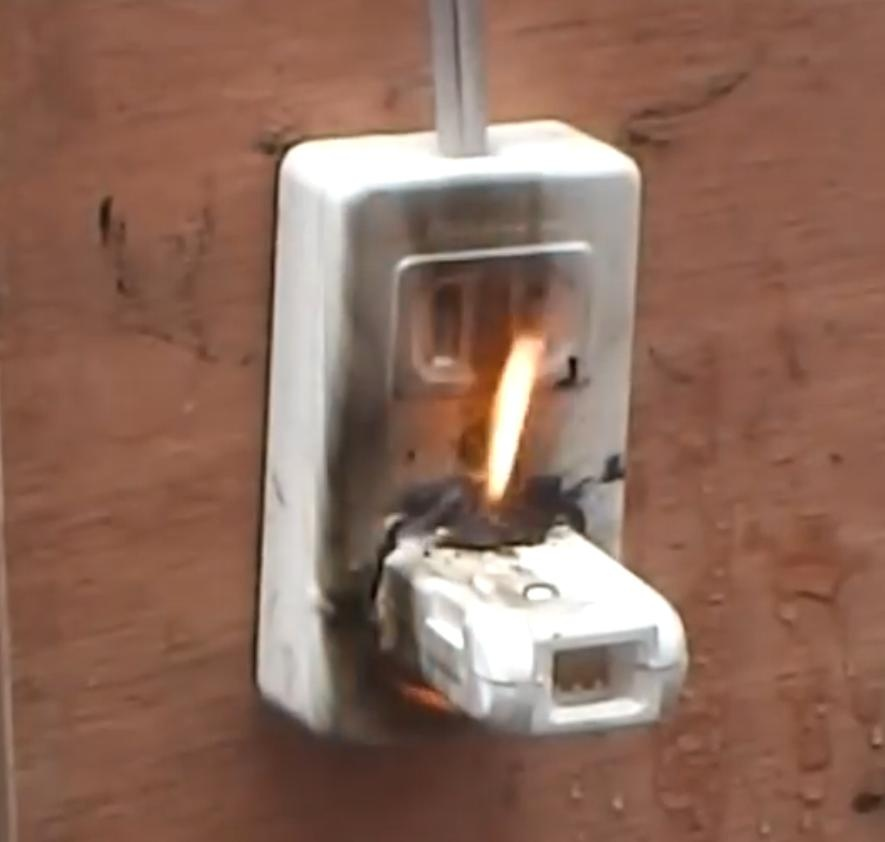fire: (480, 327, 544, 506)
